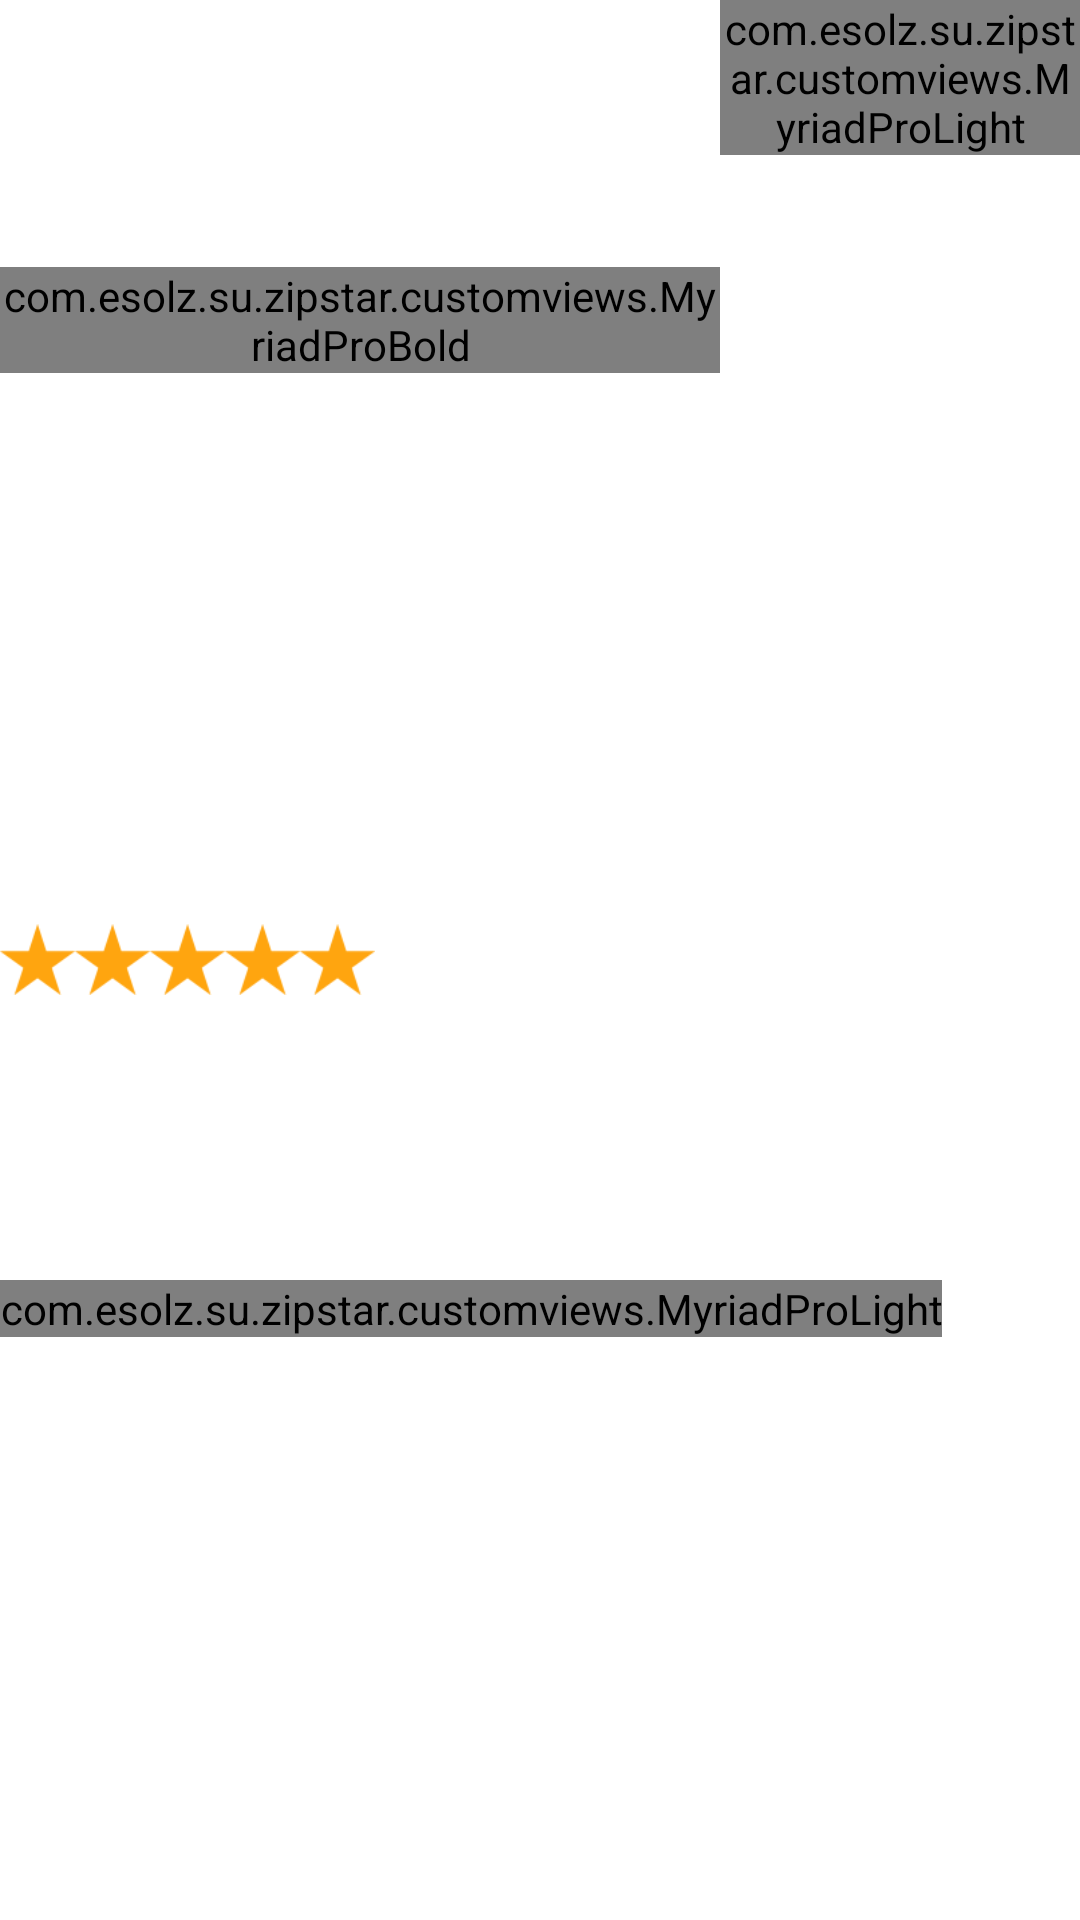

Where icons sit on this 1080x1920 app screen, as bbox(x1, y1, x2, y2):
star: bbox(0, 924, 75, 995), bbox(75, 924, 150, 995), bbox(150, 924, 225, 995), bbox(225, 924, 300, 995), bbox(300, 924, 375, 995)
